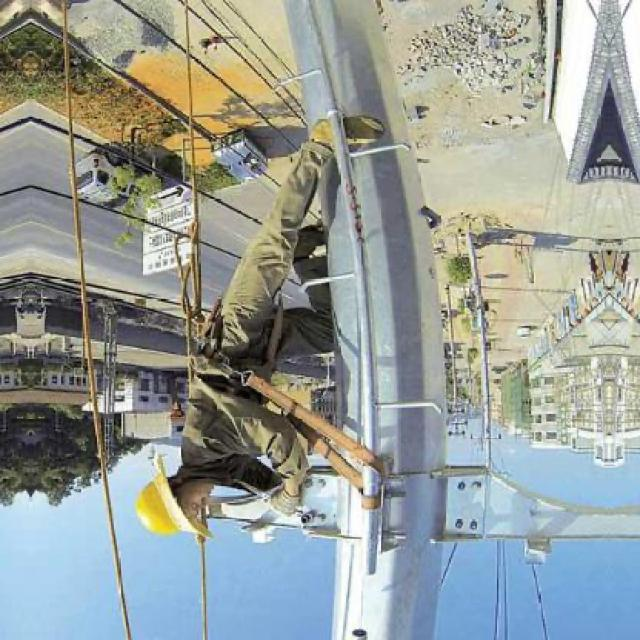con casco: (108, 449, 257, 549)
